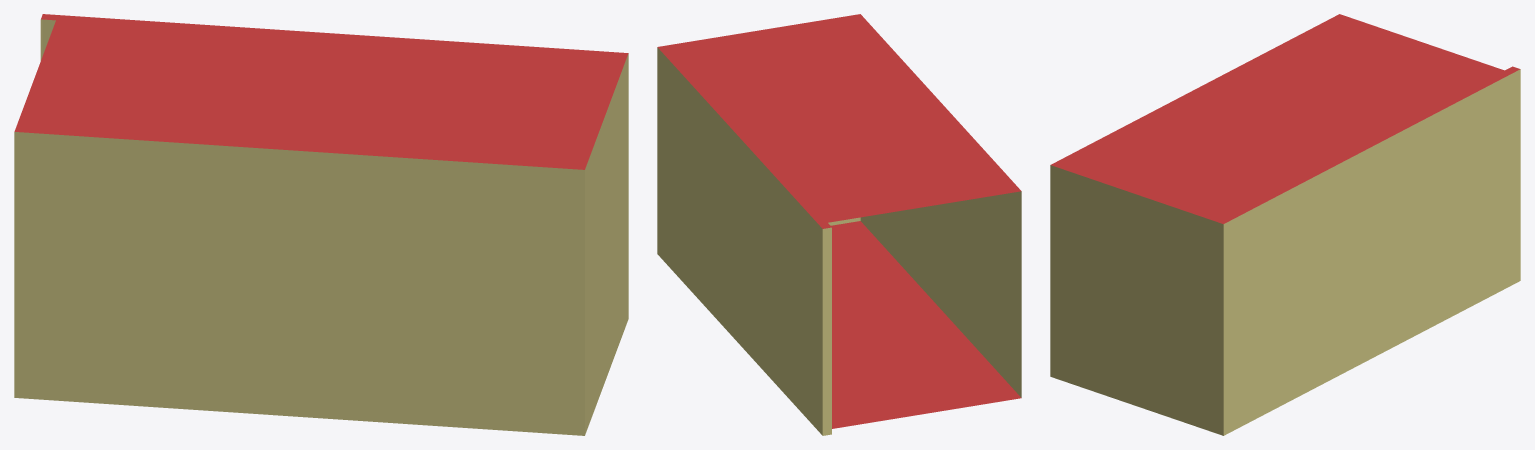
3 views of the same model, side by side, from view 1: azimuth 30°, elevation 25°; view 2: azimuth 150°, elevation 25°; view 3: azimuth 270°, elevation 25° (orthographic). The views are drawn at different scales.
Visible parts, largest first — view 1: group_4, group_3; view 2: group_4, group_3, group_5; view 3: group_4, group_3.
Part boxes in pixels (bbox=[...]): group_4: bbox=[14, 19, 628, 435]; group_3: bbox=[14, 14, 628, 169]; group_4: bbox=[657, 47, 1021, 435]; group_3: bbox=[657, 14, 1021, 228]; group_5: bbox=[831, 221, 1021, 428]; group_4: bbox=[1050, 69, 1520, 435]; group_3: bbox=[1051, 14, 1520, 223].
Size of the model in its own units: 13.26 by 12.53 by 6.23.
